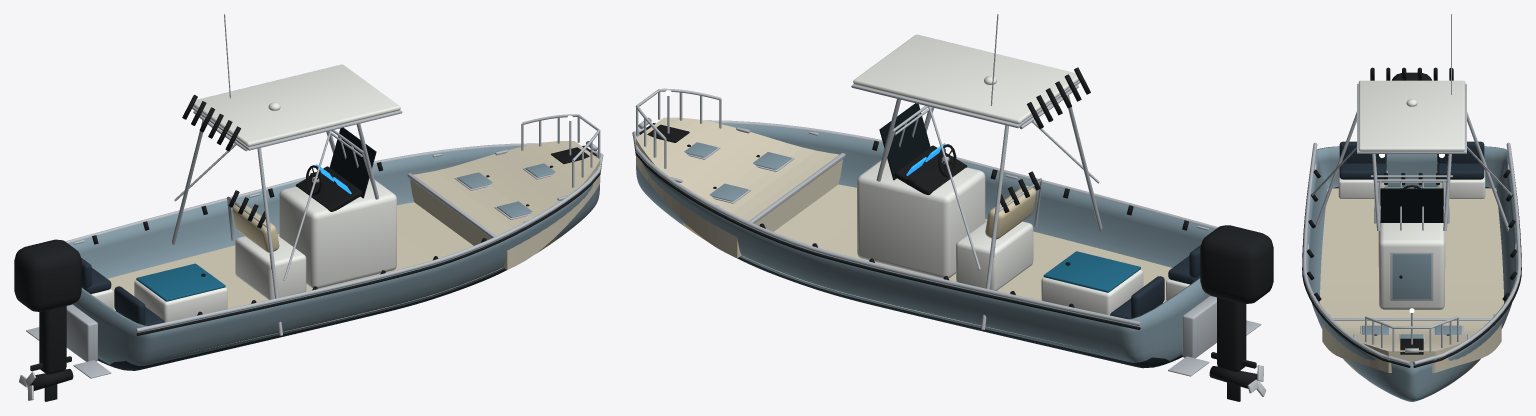
The model's file is bay.glb.
3 views of the same model, side by side, from view 1: azimuth 30°, elevation 25°; view 2: azimuth 150°, elevation 25°; view 3: azimuth 270°, elevation 25° (orthographic). The views are drawn at different scales.
Visible parts, largest first — view 1: hull, casting_deck, ttop_top, console, deck, outboard_cowl, leaning_base, gunwale.001, livewell, livewell_lid, outboard_mid, rubrail.001 (+11 smaller); view 2: hull, casting_deck, ttop_top, console, deck, outboard_cowl, leaning_base, gunwale, livewell, livewell_lid, outboard_mid, rubrail (+11 smaller); view 3: deck, hull, ttop_top, casting_deck, console, ws_glass, console_door, gunwale, gunwale.001, jump_base, jump_base.001, jump_seat (+20 smaller).
Part boxes in pixels (box(x1,y1,x2,y2)): hull: box(68, 146, 599, 370); casting_deck: box(410, 141, 600, 269); ttop_top: box(193, 64, 400, 146); console: box(279, 178, 396, 288); deck: box(108, 202, 502, 350); outboard_cowl: box(14, 239, 81, 311); leaning_base: box(235, 235, 306, 299); gunwale.001: box(135, 153, 603, 332); livewell: box(134, 280, 227, 322); livewell_lid: box(136, 263, 225, 301); outboard_mid: box(39, 306, 66, 374); rubrail.001: box(136, 164, 601, 335); hull: box(635, 123, 1214, 368); casting_deck: box(636, 117, 842, 258); ttop_top: box(853, 34, 1079, 124); console: box(857, 158, 985, 278); deck: box(741, 184, 1171, 344); outboard_cowl: box(1200, 225, 1273, 303); leaning_base: box(956, 221, 1033, 290); gunwale: box(632, 131, 1141, 326); livewell: box(1041, 269, 1143, 315); livewell_lid: box(1043, 251, 1140, 292); outboard_mid: box(1217, 297, 1246, 371); rubrail: box(634, 143, 1140, 329); deck: box(1320, 188, 1503, 317); hull: box(1306, 146, 1517, 401); ttop_top: box(1358, 80, 1465, 151); casting_deck: box(1322, 321, 1501, 372); console: box(1379, 223, 1444, 309); ws_glass: box(1380, 188, 1443, 222); console_door: box(1392, 254, 1431, 299); gunwale: box(1413, 142, 1521, 365); gunwale.001: box(1302, 142, 1410, 365); jump_base: box(1436, 170, 1485, 198); jump_base.001: box(1338, 170, 1387, 198); jump_seat: box(1437, 163, 1484, 179).
Bounding box in the file's own units: 7.75 × 4.12 × 2.79.
